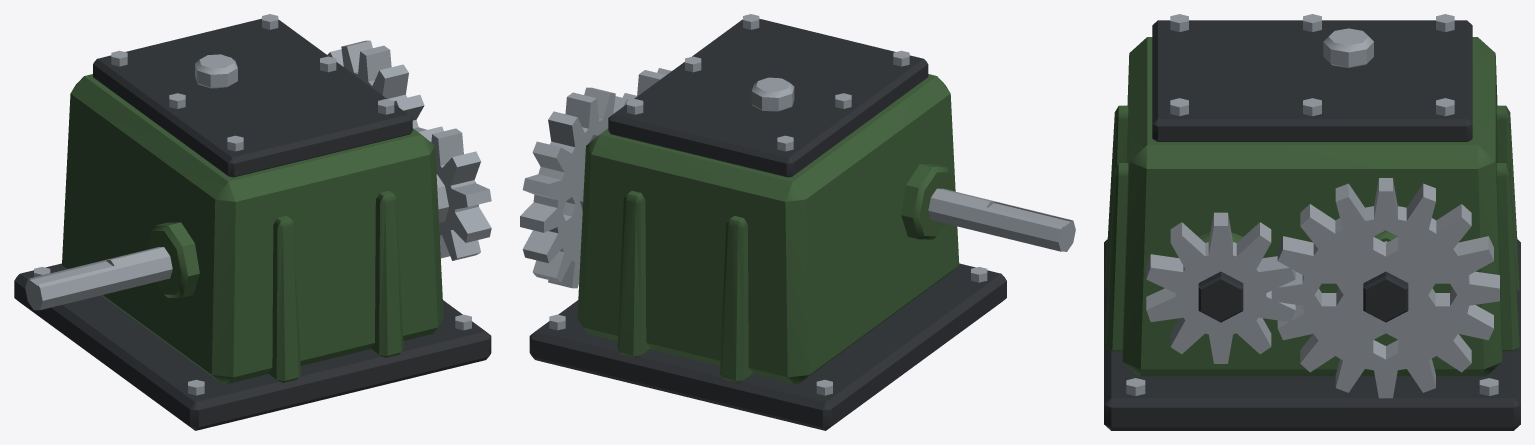
The model's file is gearbox.glb.
3 views of the same model, side by side, from view 1: azimuth 30°, elevation 25°; view 2: azimuth 150°, elevation 25°; view 3: azimuth 270°, elevation 25° (orthographic). The views are drawn at different scales.
Visible parts, largest first — view 1: housing, cover, base, pinion, input_shaft, rib_front_right, rib_front_left, big_gear, boss_left, filler_plug; view 2: housing, cover, base, big_gear, input_shaft, rib_back_left, rib_back_right, boss_left, filler_plug, pinion; view 3: housing, cover, big_gear, base, pinion, rib_front_right, rib_back_right, axle_nut_0, axle_nut_1, filler_plug, rib_front_left, rib_back_left.
Part boxes in pixels (x1,y1,x2,y2): housing: (62, 74, 443, 383); cover: (93, 18, 412, 177); base: (14, 263, 491, 430); pinion: (418, 126, 491, 260); input_shaft: (25, 247, 172, 310); rib_front_right: (370, 191, 403, 357); rib_front_left: (268, 215, 300, 382); big_gear: (327, 40, 426, 131); boss_left: (146, 222, 199, 297); filler_plug: (195, 54, 237, 88); housing: (577, 74, 959, 383); cover: (608, 18, 928, 177); base: (529, 263, 1006, 430); big_gear: (520, 87, 628, 288); input_shaft: (928, 188, 1075, 251); rib_back_left: (720, 216, 753, 382); rib_back_right: (617, 191, 650, 357); boss_left: (901, 164, 954, 239); filler_plug: (751, 77, 794, 111); pinion: (622, 68, 671, 100); housing: (1122, 37, 1502, 376); cover: (1152, 20, 1472, 141); big_gear: (1271, 178, 1499, 398); base: (1104, 239, 1520, 430); pinion: (1146, 212, 1295, 363); rib_front_right: (1105, 163, 1128, 351); rib_back_right: (1496, 163, 1519, 351); axle_nut_0: (1198, 271, 1243, 322); axle_nut_1: (1363, 271, 1408, 322); filler_plug: (1323, 28, 1373, 67); rib_front_left: (1105, 105, 1128, 291); rib_back_left: (1496, 105, 1519, 291).
Size of what is drawn, in the model's own units: 0.6346 by 0.367 by 0.46.
